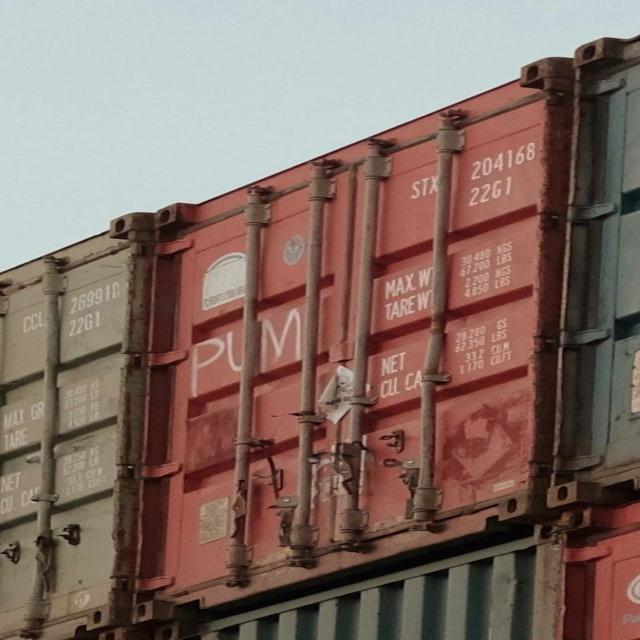ISO: (457, 174, 517, 212)
container_number: (408, 142, 548, 196)
